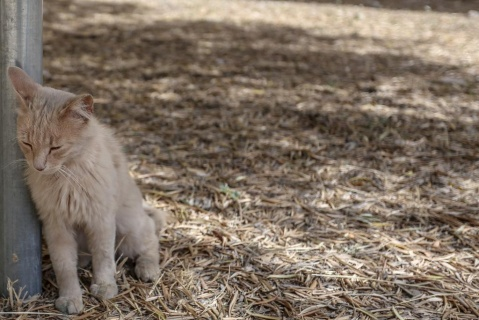Cat: (0, 63, 167, 314)
